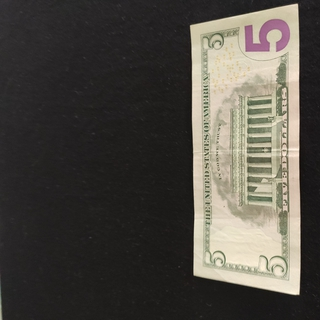5USDBack: (188, 3, 302, 296)
